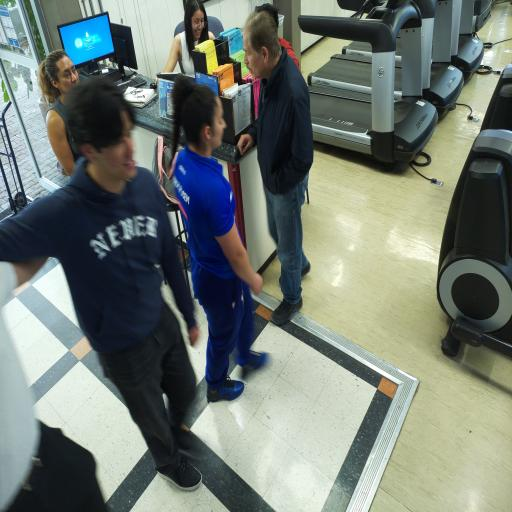person: (0, 79, 201, 490), (173, 76, 266, 402), (238, 12, 313, 324), (0, 315, 107, 511), (38, 50, 81, 175), (164, 0, 214, 75), (255, 3, 278, 27)
